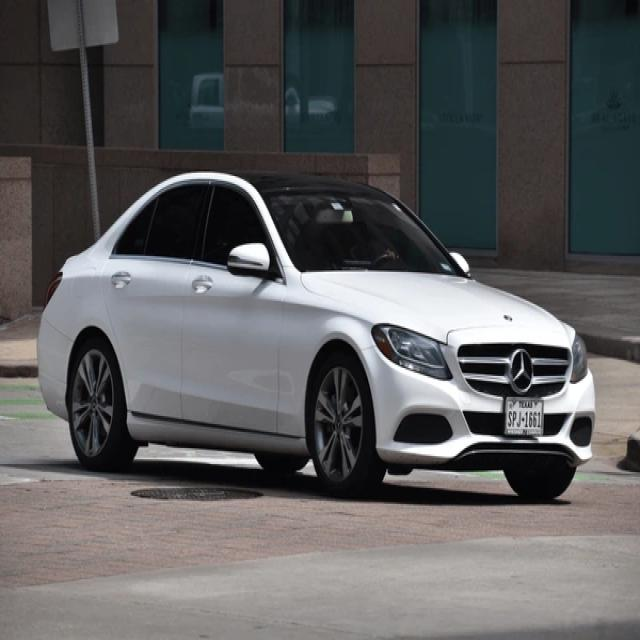mercedes: (506, 347, 538, 401)
